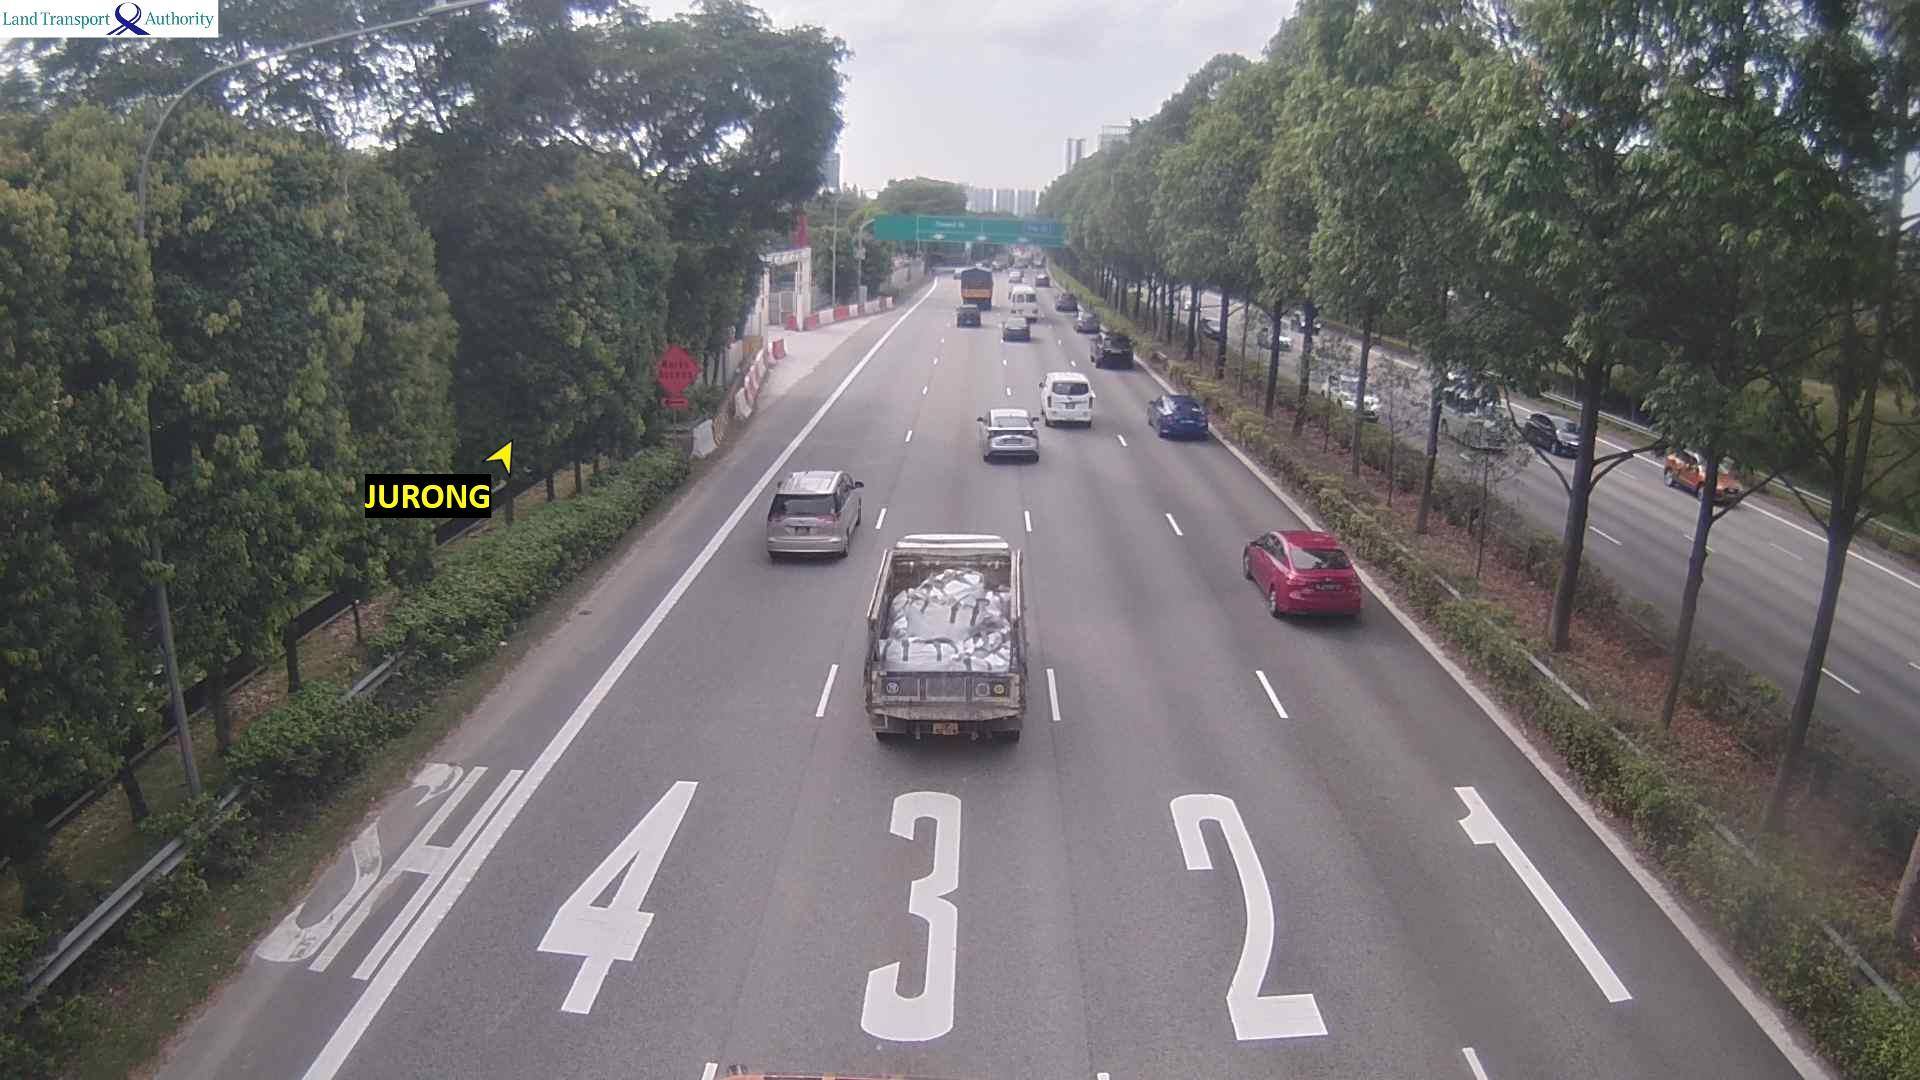cars: (1241, 528, 1362, 619), (764, 468, 863, 561), (1437, 379, 1510, 451), (1662, 446, 1744, 505), (976, 407, 1039, 462), (1037, 370, 1095, 427), (1319, 370, 1381, 422), (1145, 392, 1208, 440), (1522, 411, 1581, 457), (1089, 330, 1134, 369), (1662, 446, 1700, 486), (1553, 418, 1581, 456), (1256, 326, 1291, 350), (1291, 308, 1322, 334), (1002, 316, 1030, 341), (1073, 309, 1099, 333), (956, 303, 980, 326), (1200, 316, 1222, 341), (1053, 291, 1077, 311), (1007, 267, 1024, 283), (1034, 270, 1050, 285)
trucks: (862, 531, 1028, 744), (959, 266, 992, 310), (1008, 283, 1039, 321)
